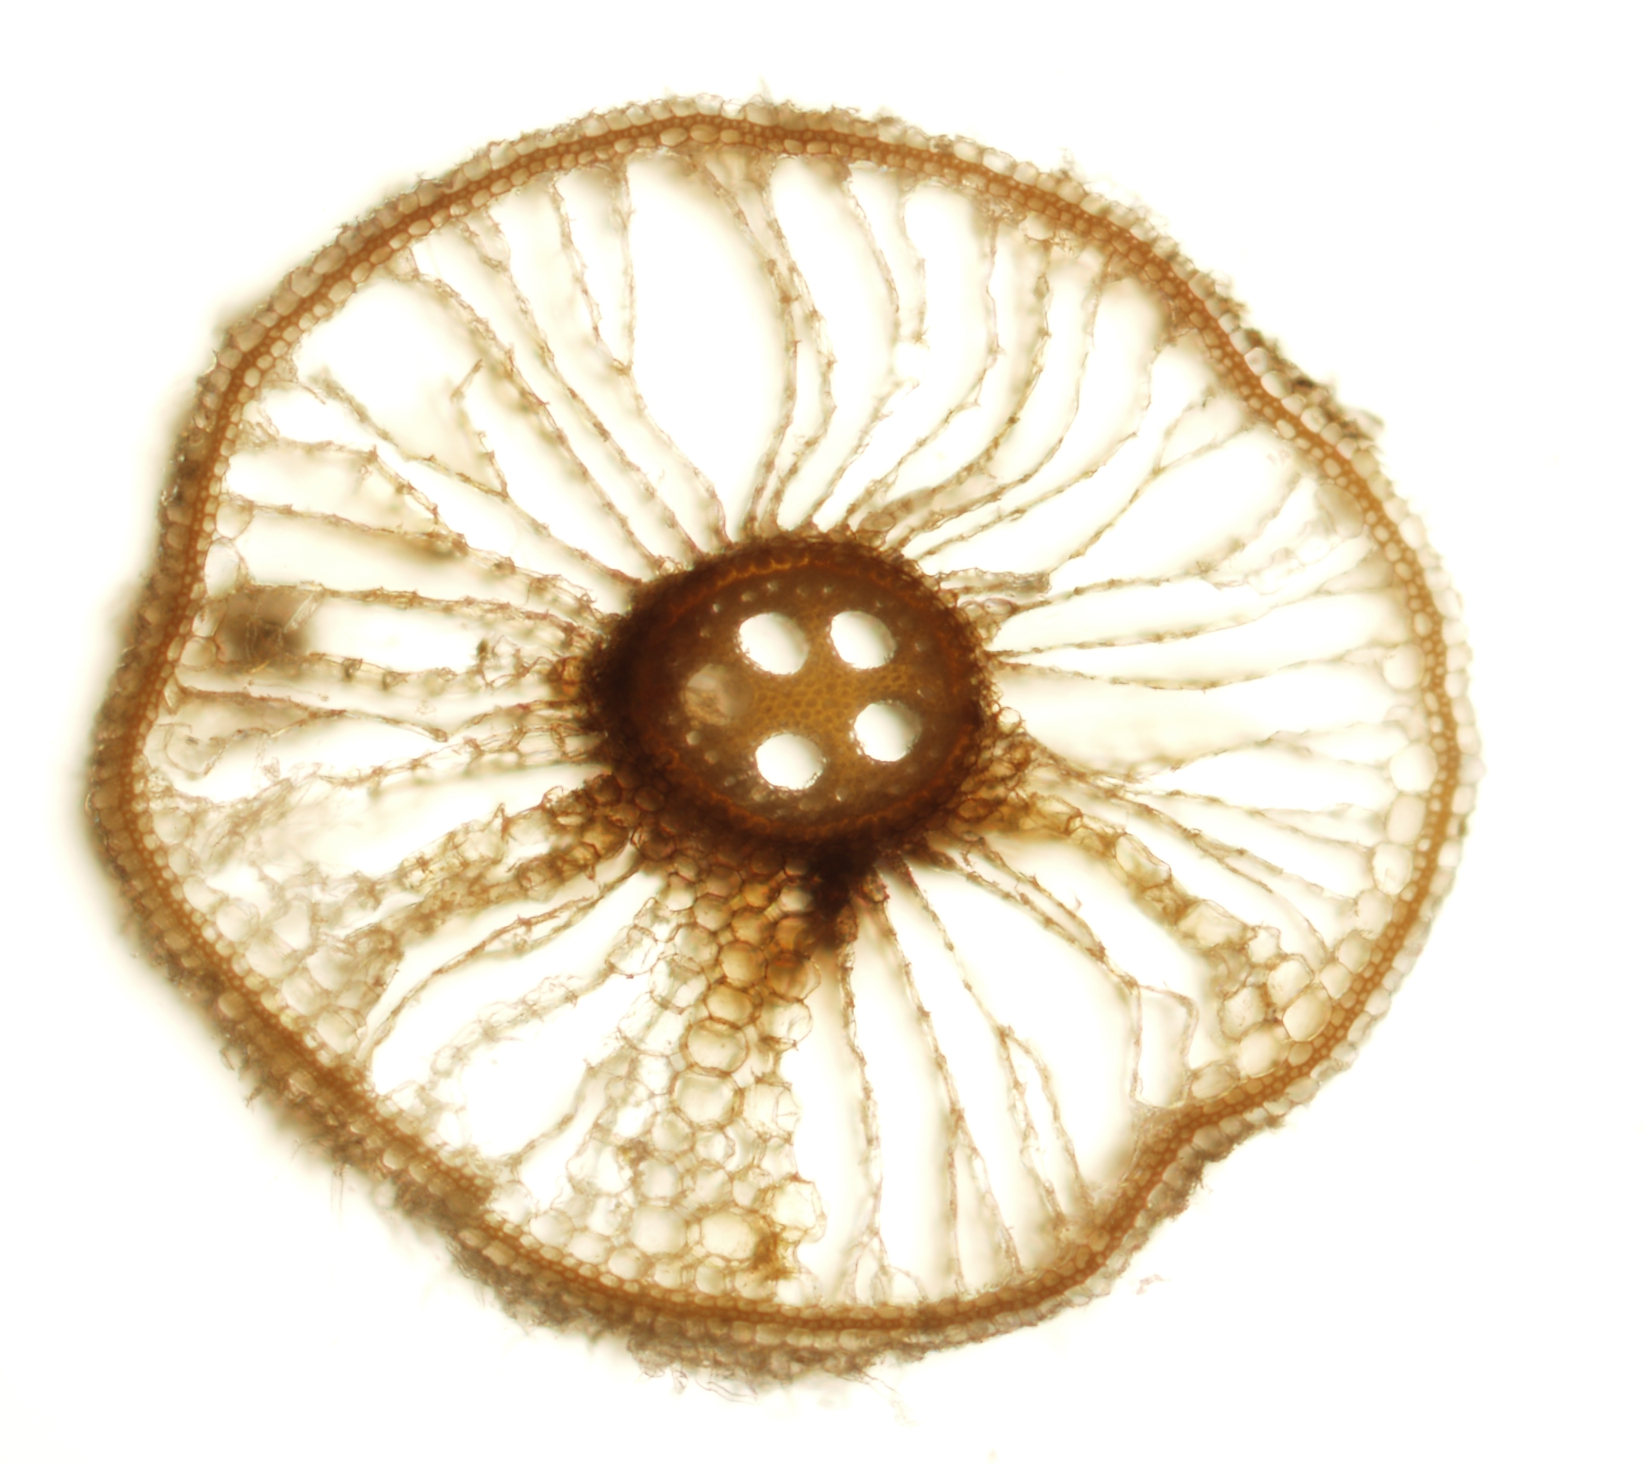lm: (680, 663, 761, 726), (738, 612, 809, 675), (854, 699, 923, 762), (830, 609, 898, 668), (755, 733, 826, 790)
